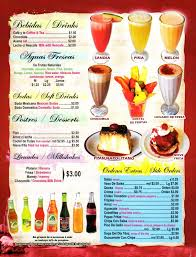coke: (83, 191, 98, 237)
